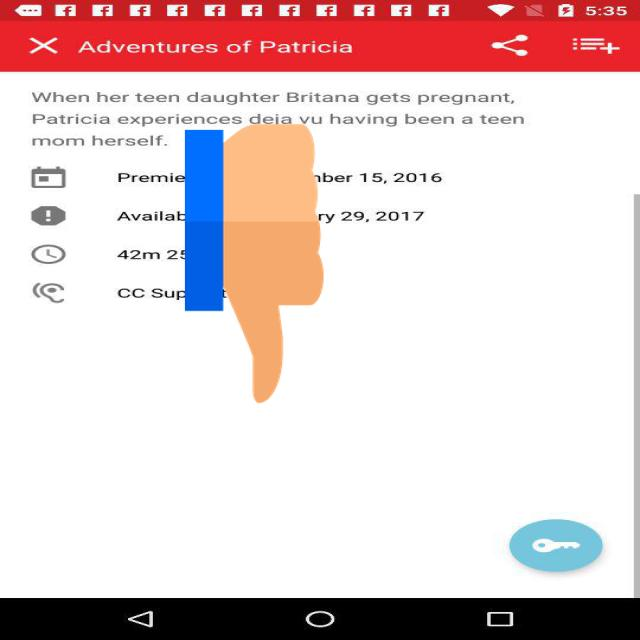obstruction: (185, 117, 323, 410)
